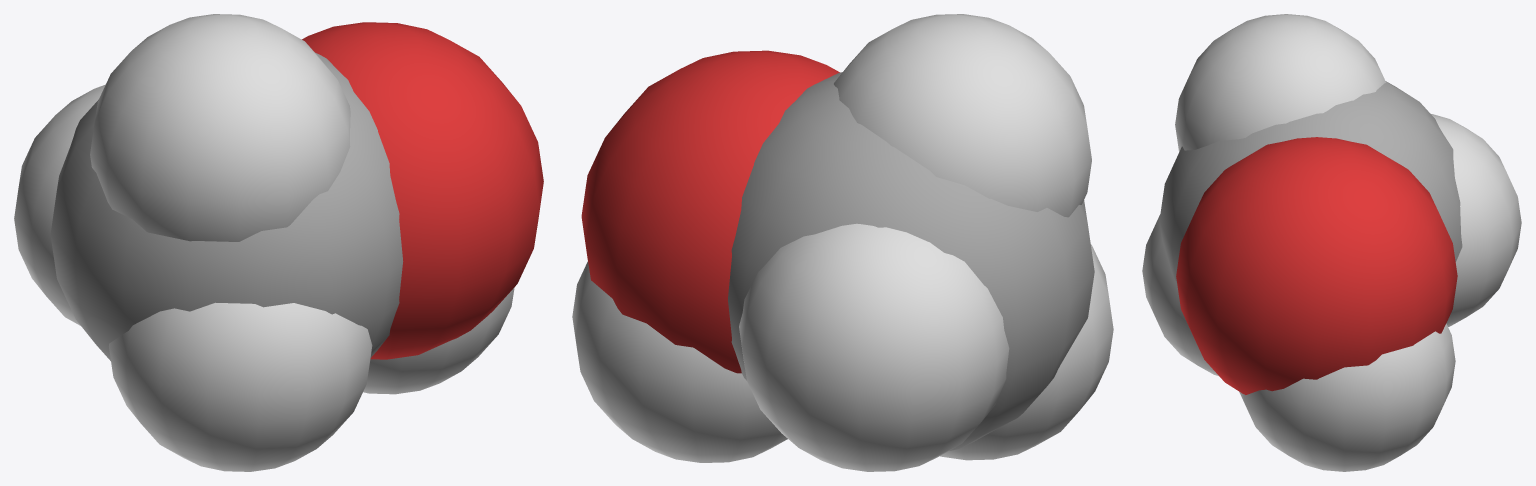
Rendered from methanol-cpk.glb.
3 renders of one model, left to right at view 1: azimuth 30°, elevation 25°; view 2: azimuth 150°, elevation 25°; view 3: azimuth 270°, elevation 25°, orthographic. The views are drawn at different scales.
Visible parts, largest first — view 1: methanol-cpk; view 2: methanol-cpk; view 3: methanol-cpk.
Part boxes in pixels (bbox=[...]): methanol-cpk: bbox=[14, 14, 543, 471]; methanol-cpk: bbox=[572, 14, 1113, 471]; methanol-cpk: bbox=[1142, 14, 1521, 471].
Bounding box in the file's own units: 4.64 × 4.26 × 4.1.
